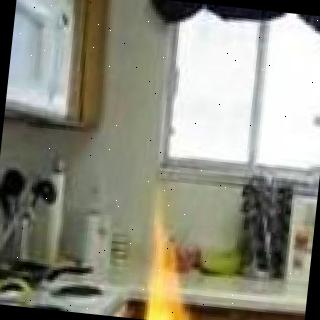fire: (115, 190, 258, 320)
